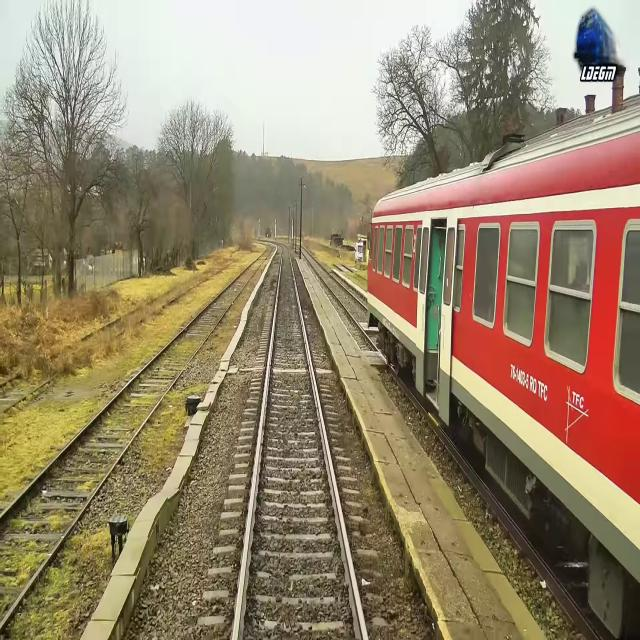rail-track: (0, 245, 271, 620), (237, 244, 364, 639), (0, 258, 235, 411), (301, 247, 383, 352)
